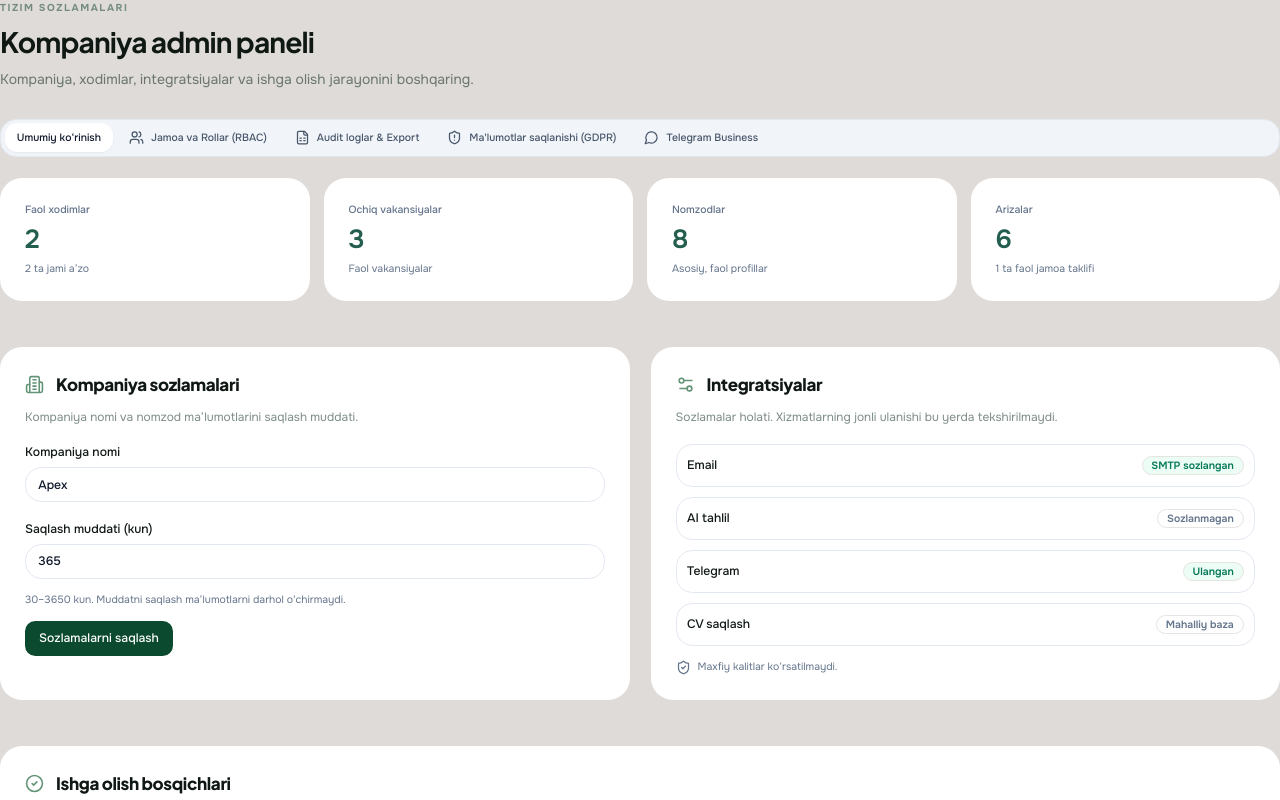
Test: Settings Hub (RBAC, Audit Logs, Retention, Telegram) › filters members and keeps self-access controls unavailable
Click the tab "Jamoa va Rollar (RBAC)".
click(198, 138)  # box [117,123,279,152]
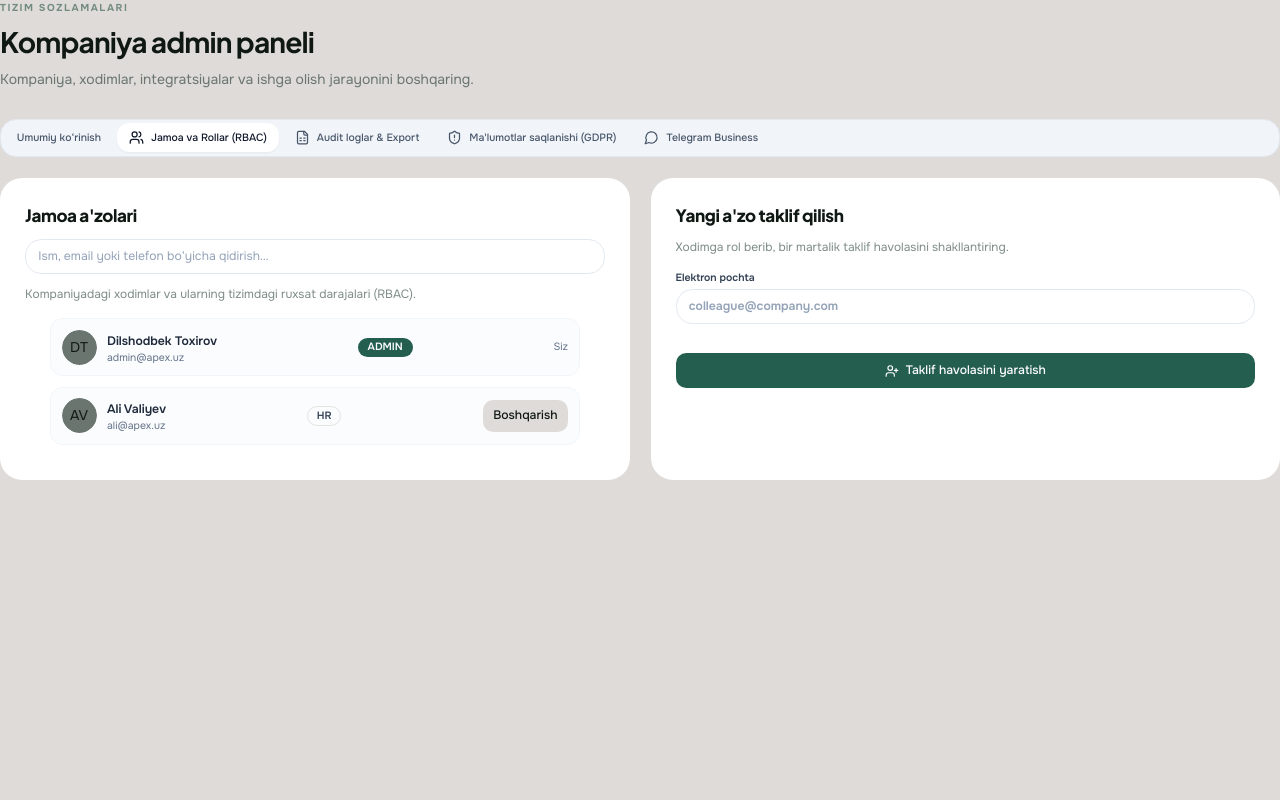
Type "ali@apex.uz" into the field named "Xodimlarni qidirish".
click(315, 256); type("ali@apex.uz")  # box [25,239,604,274]
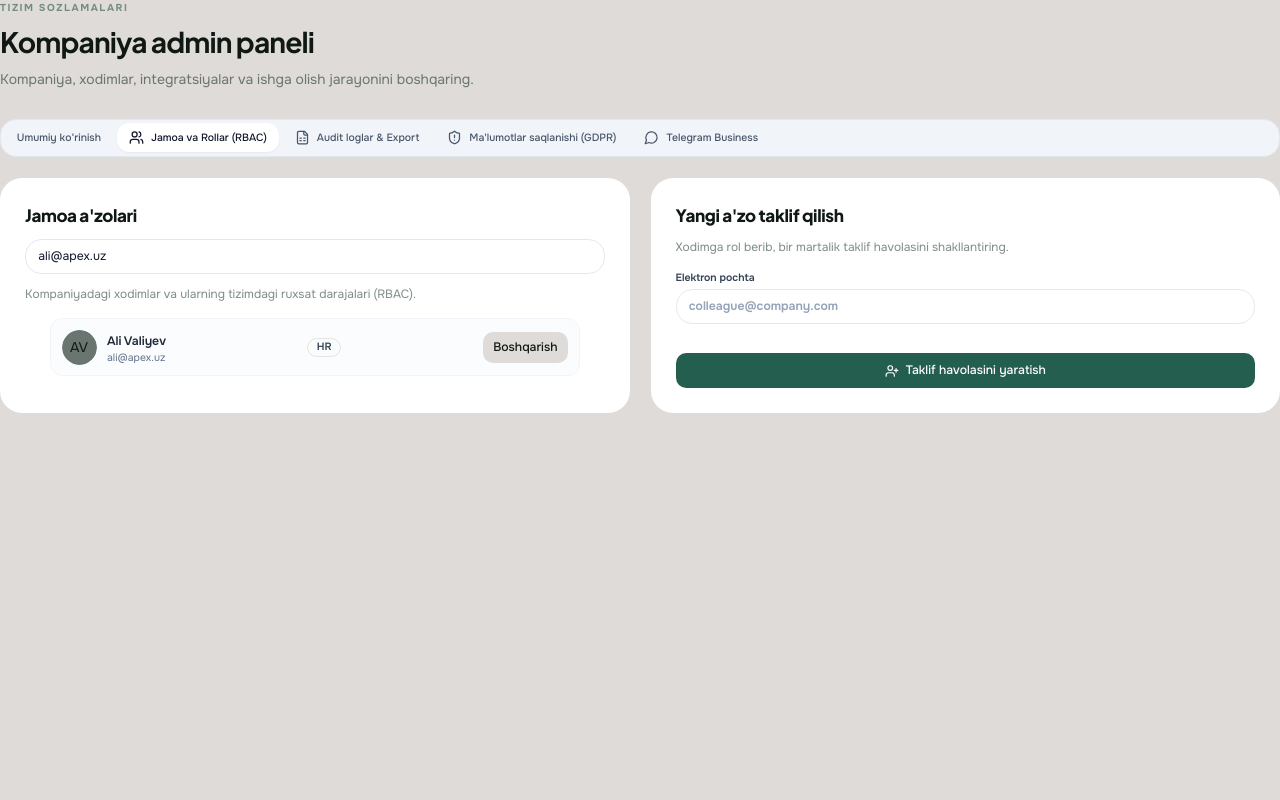
Expected: the text "Ali Valiyev" is shown, [107,333,166,349]
Expected: the text "Dilshodbek Toxirov" is gone
